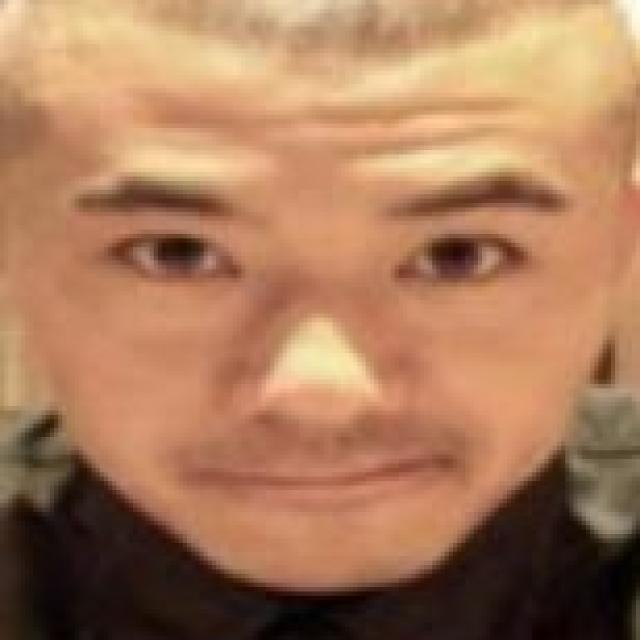no_mask: (8, 11, 624, 604)
